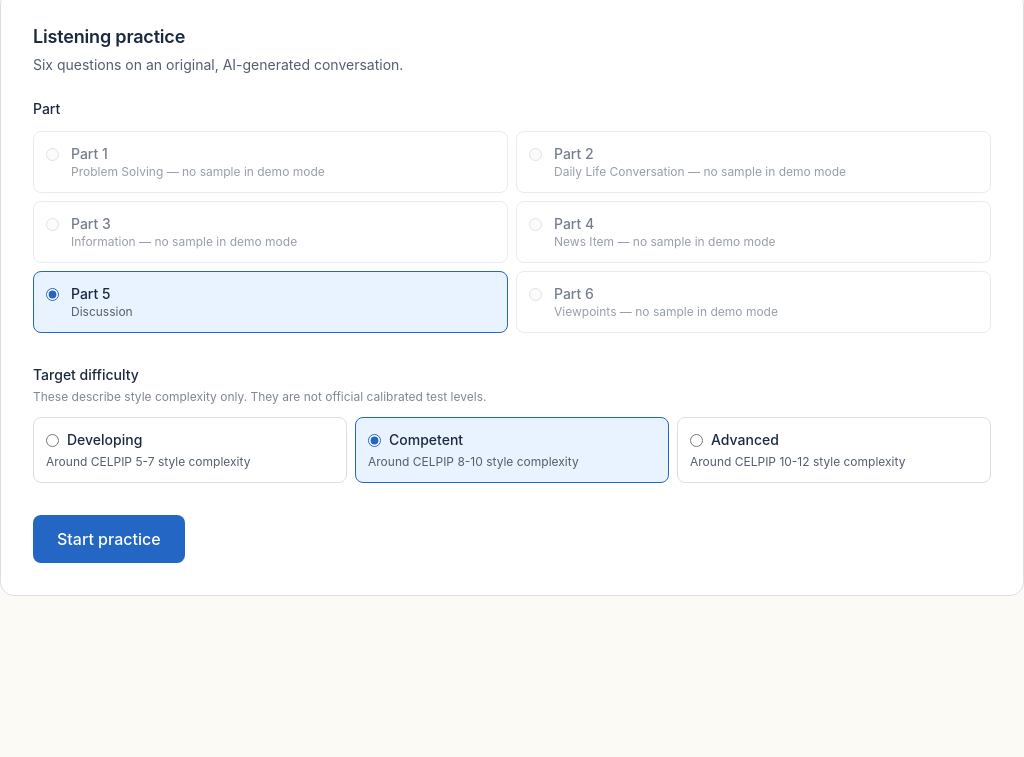
Scenario: ListeningPage › reveals the transcript only after submission
The width and height of the screenshot is (1024, 757).
Click the button "Start practice" at (109, 539), box [33,515,185,563]
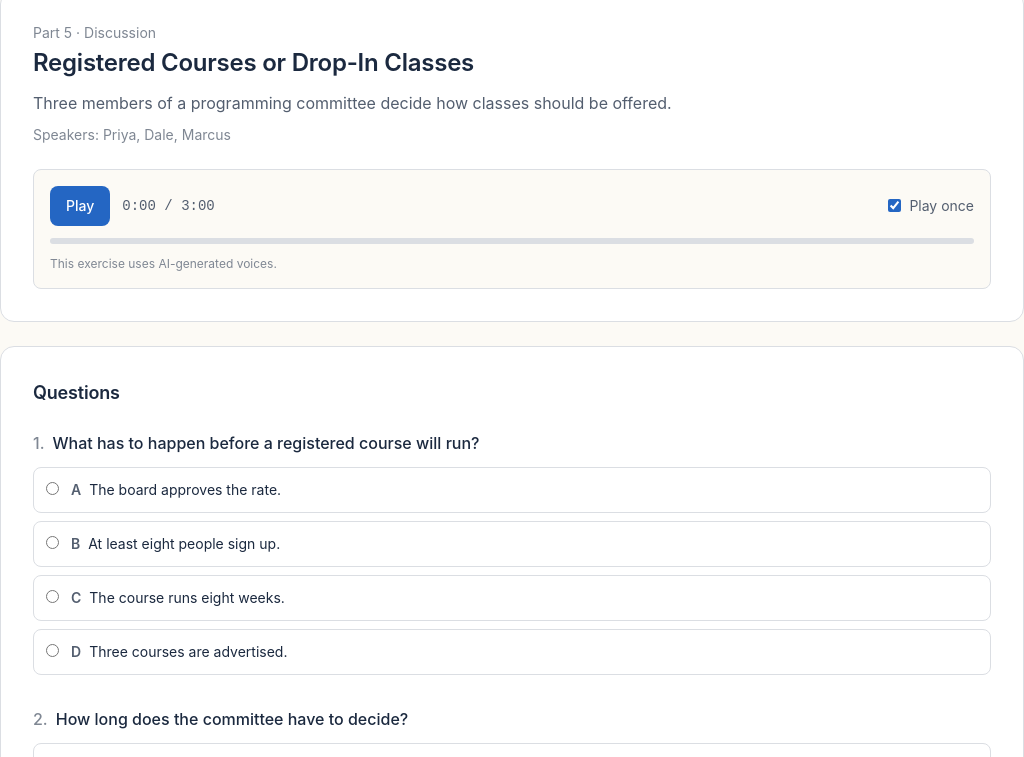
Expected: the heading "Registered Courses or Drop-In Classes" is shown, [33,48,474,77]
Click the radio button labelled "BAt least eight people sign up." at (52, 542), box [46,536,59,549]
(page scrolled)
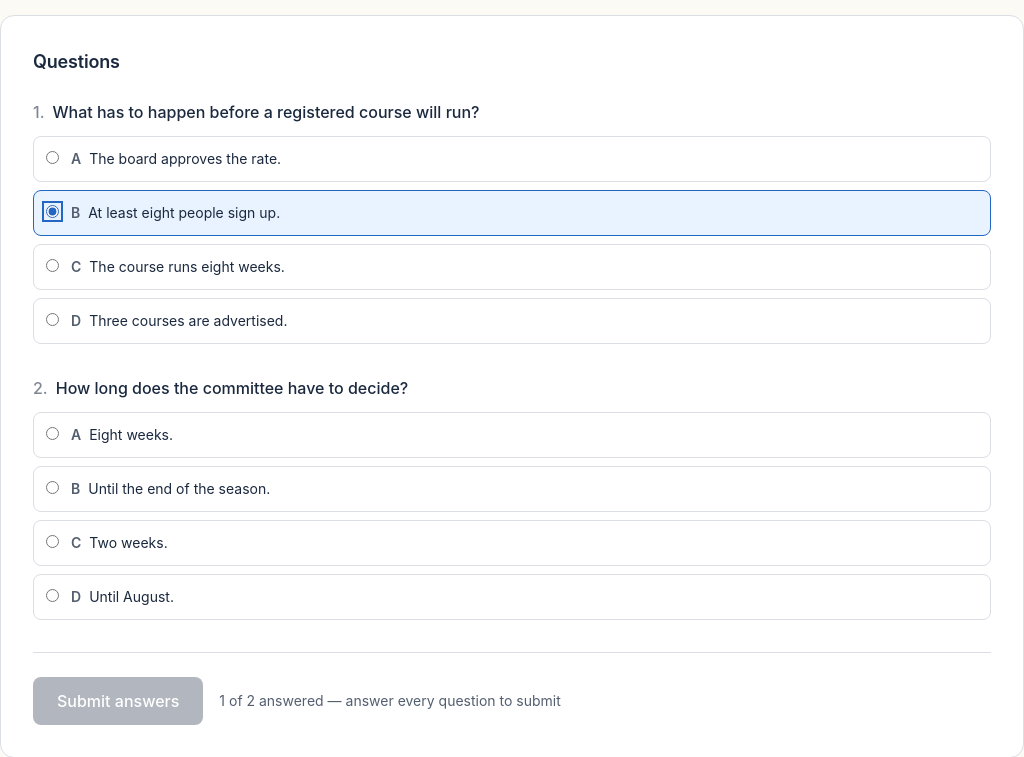
Click the radio button labelled "Eight weeks" at (52, 433), box [46,427,59,440]
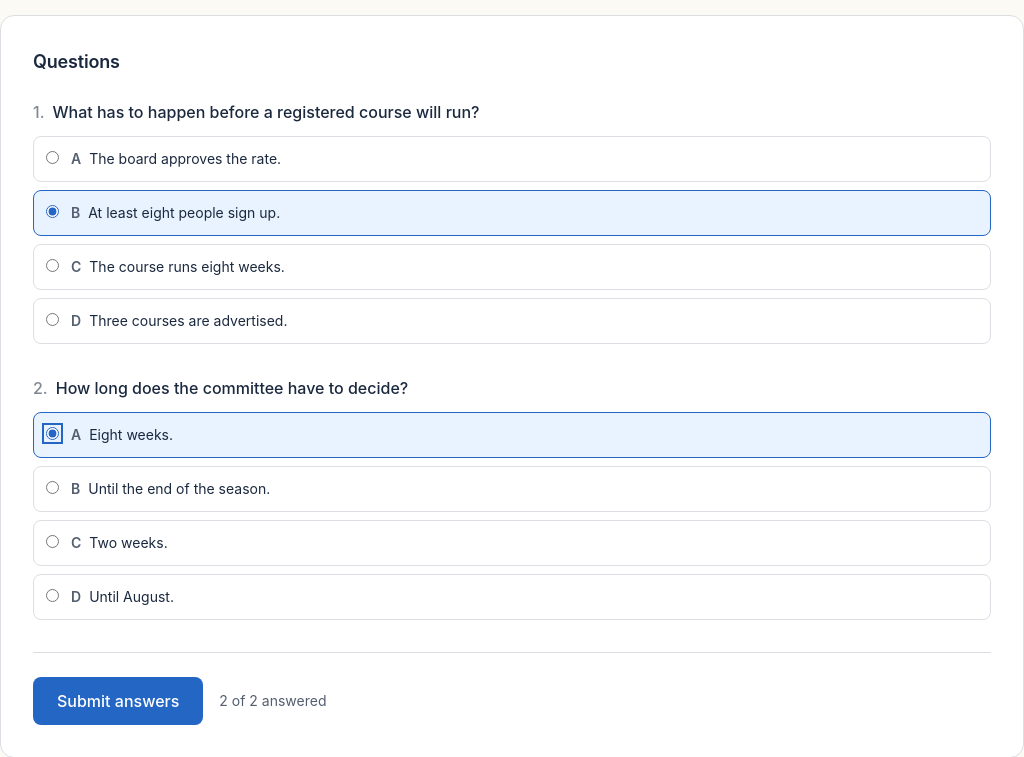
Click the button "Submit answers" at (118, 701), box [33,677,203,725]
(page scrolled)
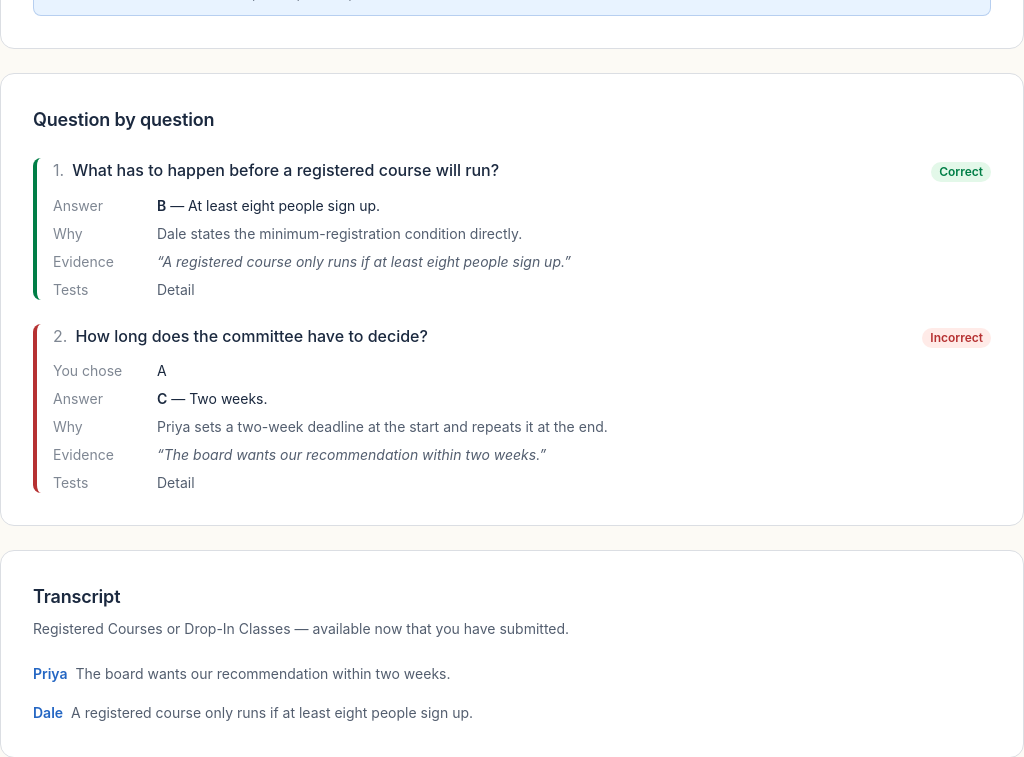
Expected: the heading "Transcript" is shown, [33,586,120,607]
Expected: the text "The board wants our recommendation within two weeks." is shown, [76,665,450,682]
Expected: the text "A registered course only runs if at least eight people sign up." is shown, [71,704,473,721]
